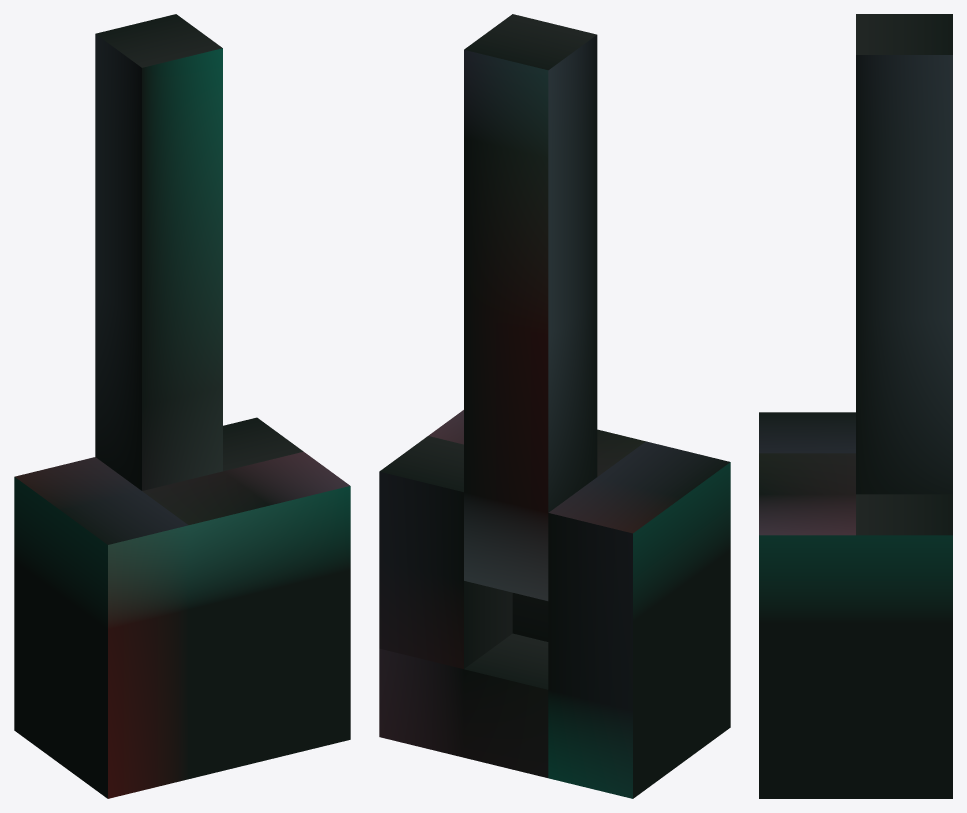
The model's file is Saucer_00.fbx.
3 views of the same model, side by side, from view 1: azimuth 30°, elevation 25°; view 2: azimuth 150°, elevation 25°; view 3: azimuth 270°, elevation 25° (orthographic). The views are drawn at different scales.
Visible parts, largest first — view 1: Saucer_00; view 2: Saucer_00; view 3: Saucer_00.
Part boxes in pixels (x1,y1,x2,y2): Saucer_00: (14, 14, 350, 798); Saucer_00: (379, 14, 730, 798); Saucer_00: (759, 14, 952, 798).
Size of the model in its own units: 15 by 40 by 10.
